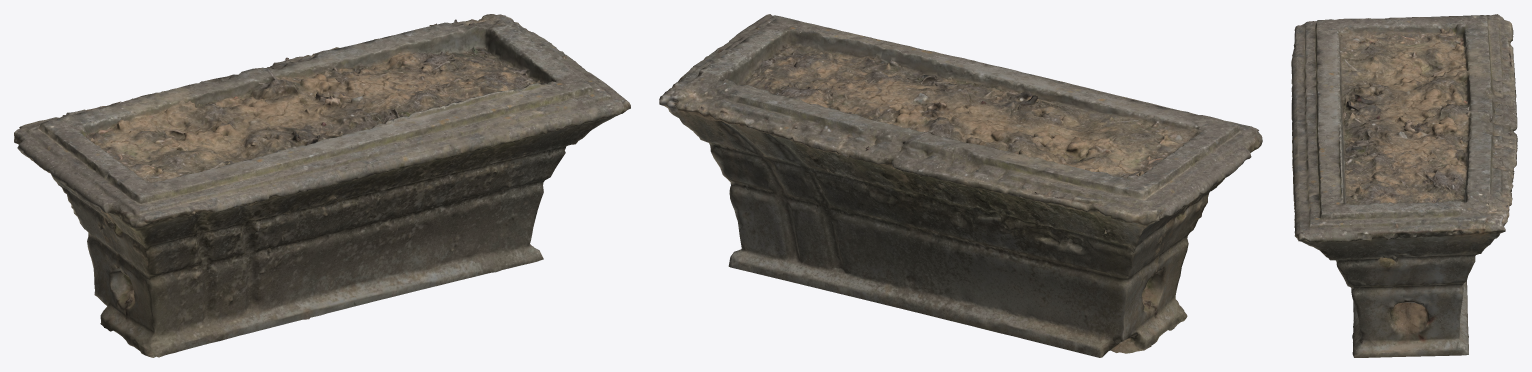
File: PX_Discarded_Flower_Pot_01_LOD0.fbx
3 renders of one model, left to right at view 1: azimuth 30°, elevation 25°; view 2: azimuth 150°, elevation 25°; view 3: azimuth 270°, elevation 25°, orthographic. The views are drawn at different scales.
Visible parts, largest first — view 1: PX_Discarded_Flower_Pot_01_LOD0; view 2: PX_Discarded_Flower_Pot_01_LOD0; view 3: PX_Discarded_Flower_Pot_01_LOD0.
Boxes of the visible parts, left/top/right/bottom form: PX_Discarded_Flower_Pot_01_LOD0: left=14, top=14, right=630, bottom=357; PX_Discarded_Flower_Pot_01_LOD0: left=659, top=14, right=1262, bottom=357; PX_Discarded_Flower_Pot_01_LOD0: left=1291, top=14, right=1517, bottom=357.
Size of the model in its own units: 149 by 53.17 by 65.87.
